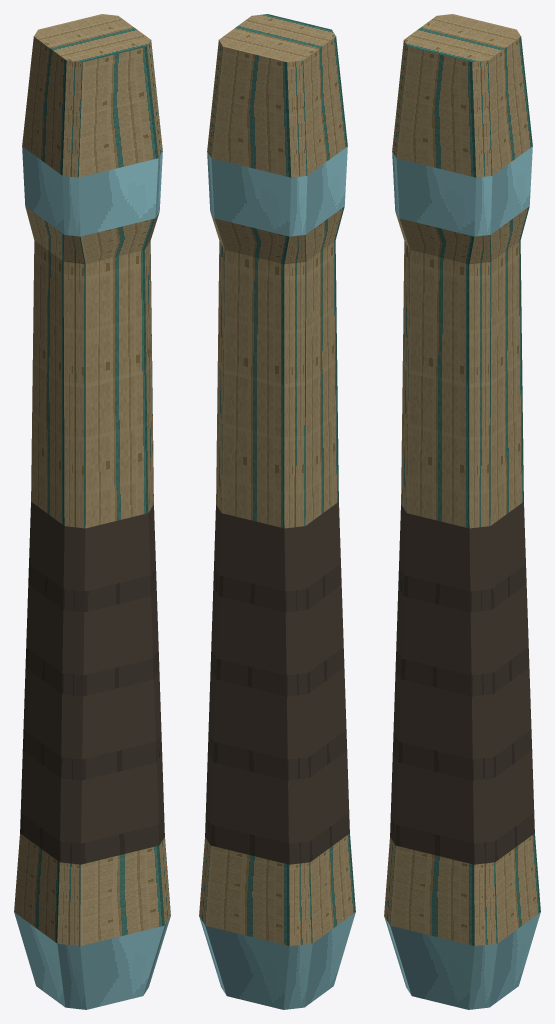
The model's file is ningyuan_handle.obj.
3 views of the same model, side by side, from view 1: azimuth 30°, elevation 25°; view 2: azimuth 150°, elevation 25°; view 3: azimuth 330°, elevation 25° (orthographic).
Visible parts, largest first — view 1: geometry; view 2: geometry; view 3: geometry.
Part boxes in pixels (x1,y1,x2,y2): geometry: (14, 14, 170, 1009); geometry: (199, 14, 355, 1009); geometry: (384, 14, 540, 1009).
Bounding box in the file's own units: 0.1175 × 0.9375 × 0.1075.
